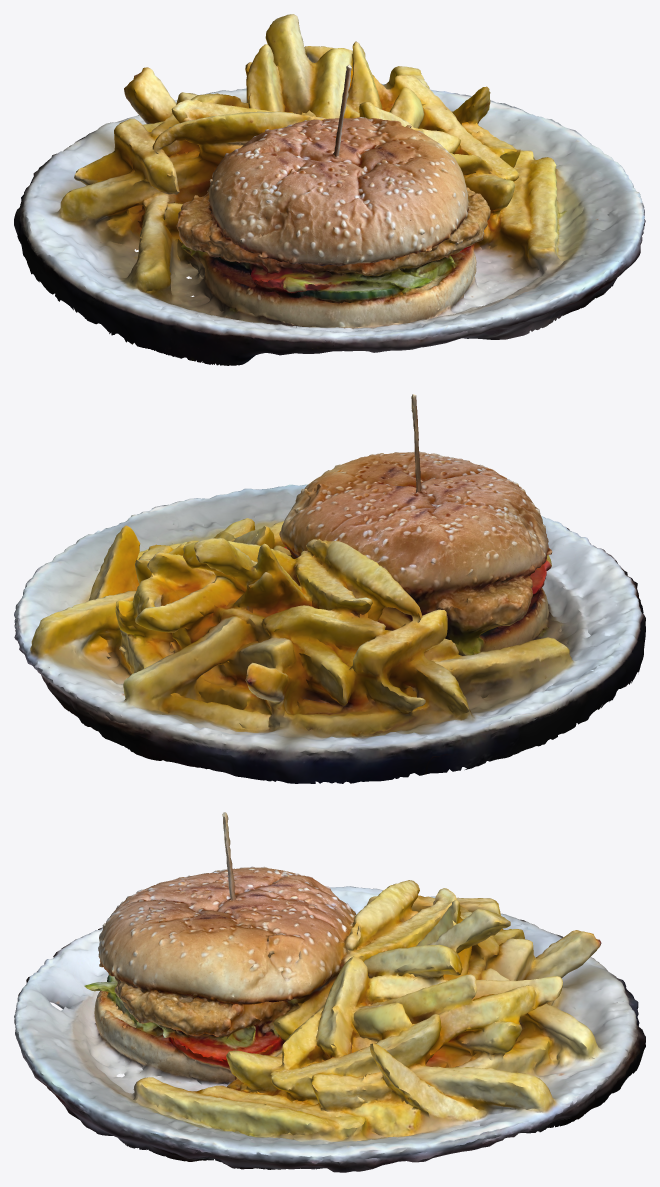
Rendered from burger.glb.
The picture shows the model from 3 angles, top to bottom: view 1: azimuth 30°, elevation 25°; view 2: azimuth 150°, elevation 25°; view 3: azimuth 270°, elevation 25°; orthographic projection.
Parts seen in each view (by area): view 1: g0_6; view 2: g0_6; view 3: g0_6.
Part boxes in pixels (box(x1,y1,x2,y2)): g0_6: box(14, 14, 645, 365); g0_6: box(14, 394, 645, 783); g0_6: box(14, 812, 645, 1172).
Size of the model in its own units: 0.2575 by 0.1014 by 0.2588.
1 material, 1 textured.
